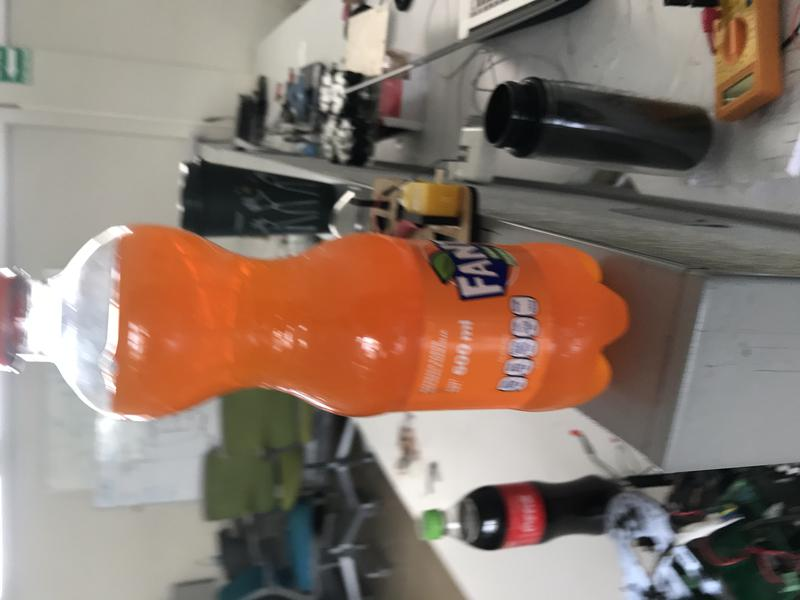fanta: (1, 224, 631, 422)
